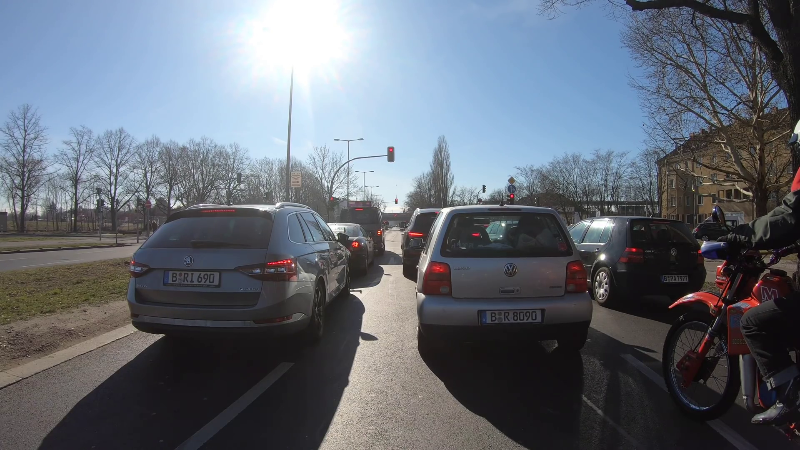Plate: (158, 267, 223, 288), (475, 308, 547, 325), (657, 270, 690, 283)
